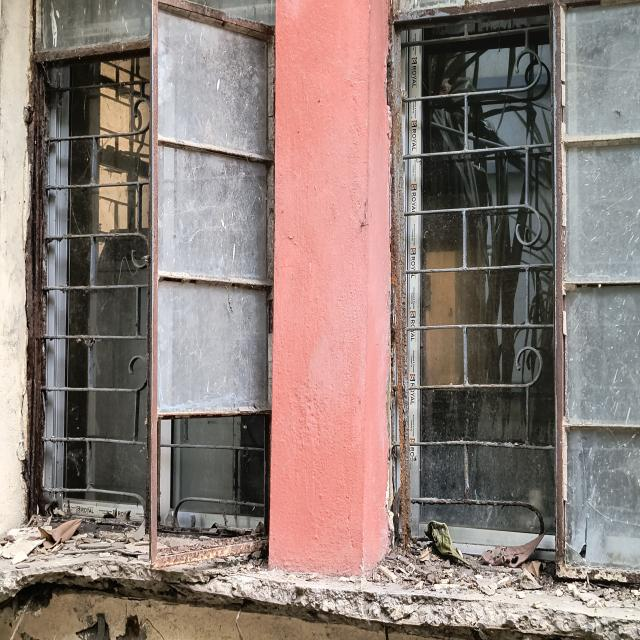Broken window pane: (394, 10, 556, 571), (156, 1, 270, 557), (40, 56, 151, 527)
Corrosion: (391, 0, 548, 546), (25, 39, 153, 524)
Spalling: (0, 550, 640, 640)
